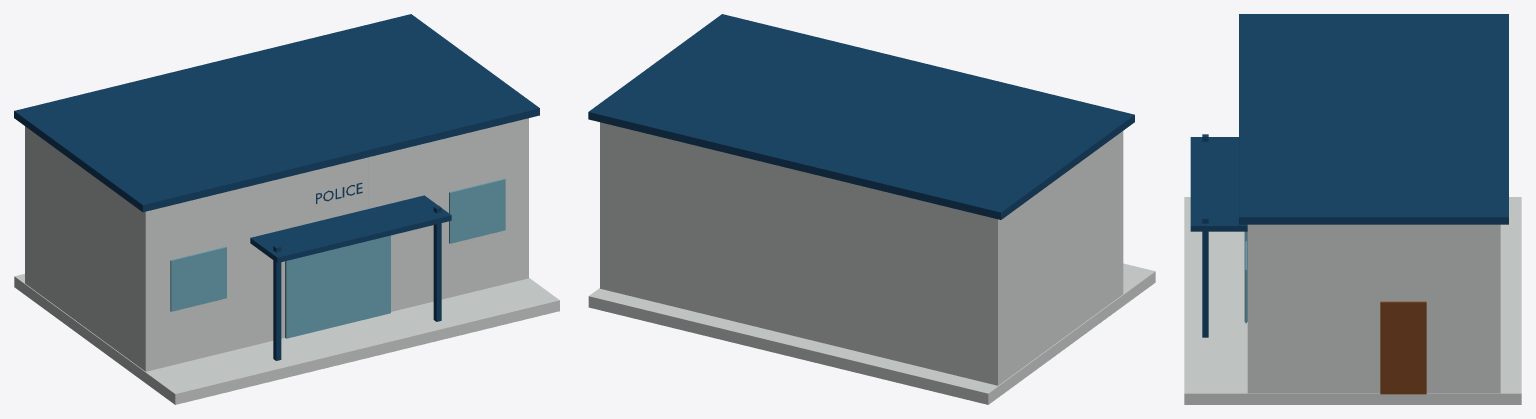
Rendered from edited.glb.
3 renders of one model, left to right at view 1: azimuth 30°, elevation 25°; view 2: azimuth 150°, elevation 25°; view 3: azimuth 270°, elevation 25°, orthographic. The views are drawn at different scales.
Parts seen in each view (by area): view 1: ROOF, WING_Main_Side, WING_Main_FrontPier, WING_Main_FrontPier.001, FOUNDATION, PUBLIC_Recess, RECEPTION_Canopy, WING_Main_EntryHeader, RECEPTION_Window, RECEPTION_Window.001, PUBLIC_Column, PUBLIC_Column.001 (+1 smaller); view 2: WING_Main_Back, ROOF, WING_Main_Side, FOUNDATION, WING_Main_FrontPier; view 3: ROOF, WING_Main_Side.001, FOUNDATION, RECEPTION_Canopy, SERVICE_Door, WING_Main_FrontPier.001, WING_Main_Back, PUBLIC_Column.001, WING_Main_Roof.
Boxes of the visible parts, bbox=[...] form: ROOF: bbox=[14, 14, 539, 212]; WING_Main_Side: bbox=[25, 126, 151, 371]; WING_Main_FrontPier: bbox=[142, 172, 305, 370]; WING_Main_FrontPier.001: bbox=[368, 118, 528, 311]; FOUNDATION: bbox=[14, 274, 559, 404]; PUBLIC_Recess: bbox=[285, 235, 390, 338]; RECEPTION_Canopy: bbox=[250, 195, 451, 262]; WING_Main_EntryHeader: bbox=[306, 157, 368, 223]; RECEPTION_Window: bbox=[170, 247, 226, 311]; RECEPTION_Window.001: bbox=[449, 178, 505, 243]; PUBLIC_Column: bbox=[273, 244, 281, 360]; PUBLIC_Column.001: bbox=[433, 205, 441, 321]; WING_Main_Back: bbox=[600, 122, 1001, 385]; ROOF: bbox=[588, 14, 1134, 219]; WING_Main_Side: bbox=[993, 133, 1123, 384]; FOUNDATION: bbox=[588, 263, 1155, 404]; WING_Main_FrontPier: bbox=[1120, 131, 1123, 295]; ROOF: bbox=[1239, 14, 1508, 224]; WING_Main_Side.001: bbox=[1247, 224, 1499, 393]; FOUNDATION: bbox=[1184, 197, 1521, 404]; RECEPTION_Canopy: bbox=[1190, 137, 1247, 231]; SERVICE_Door: bbox=[1380, 301, 1426, 394]; WING_Main_FrontPier.001: bbox=[1247, 224, 1254, 392]; WING_Main_Back: bbox=[1494, 224, 1500, 393]; PUBLIC_Column.001: bbox=[1202, 216, 1208, 337]; WING_Main_Roof: bbox=[1248, 224, 1499, 225].
Size of the model in its own units: 11.4 by 5 by 8.
